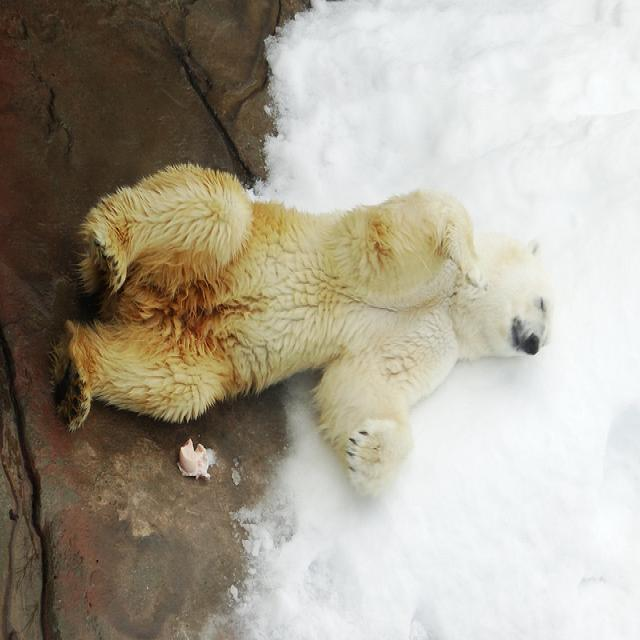Bear: (65, 160, 545, 490)
